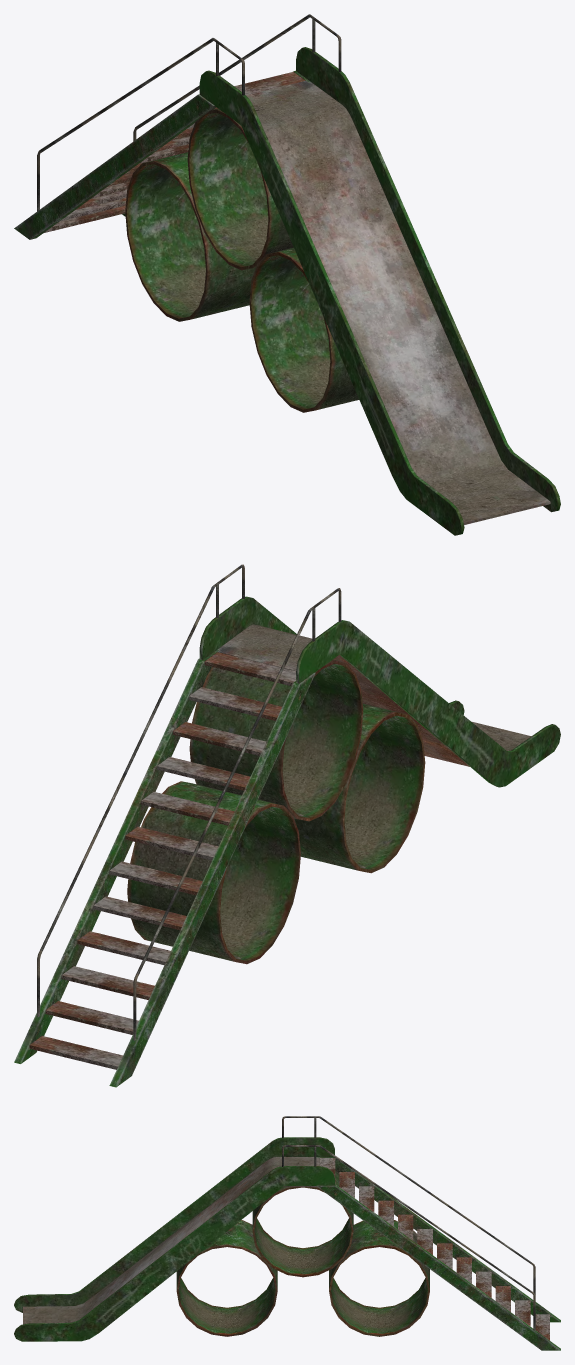
Rendered from slide.glb.
The picture shows the model from 3 angles, top to bottom: view 1: azimuth 30°, elevation 25°; view 2: azimuth 150°, elevation 25°; view 3: azimuth 270°, elevation 25°; orthographic projection. The views are drawn at different scales.
Parts seen in each view (by area): view 1: Gorka_0; view 2: Gorka_0; view 3: Gorka_0.
Part boxes in pixels (<box>): Gorka_0: <box>14,14,560,535</box>; Gorka_0: <box>14,564,560,1087</box>; Gorka_0: <box>14,1116,560,1350</box>.
Bounding box in the file's own units: 0.8055 × 2.52 × 6.09.
Materials: 1 (1 with a texture image).
